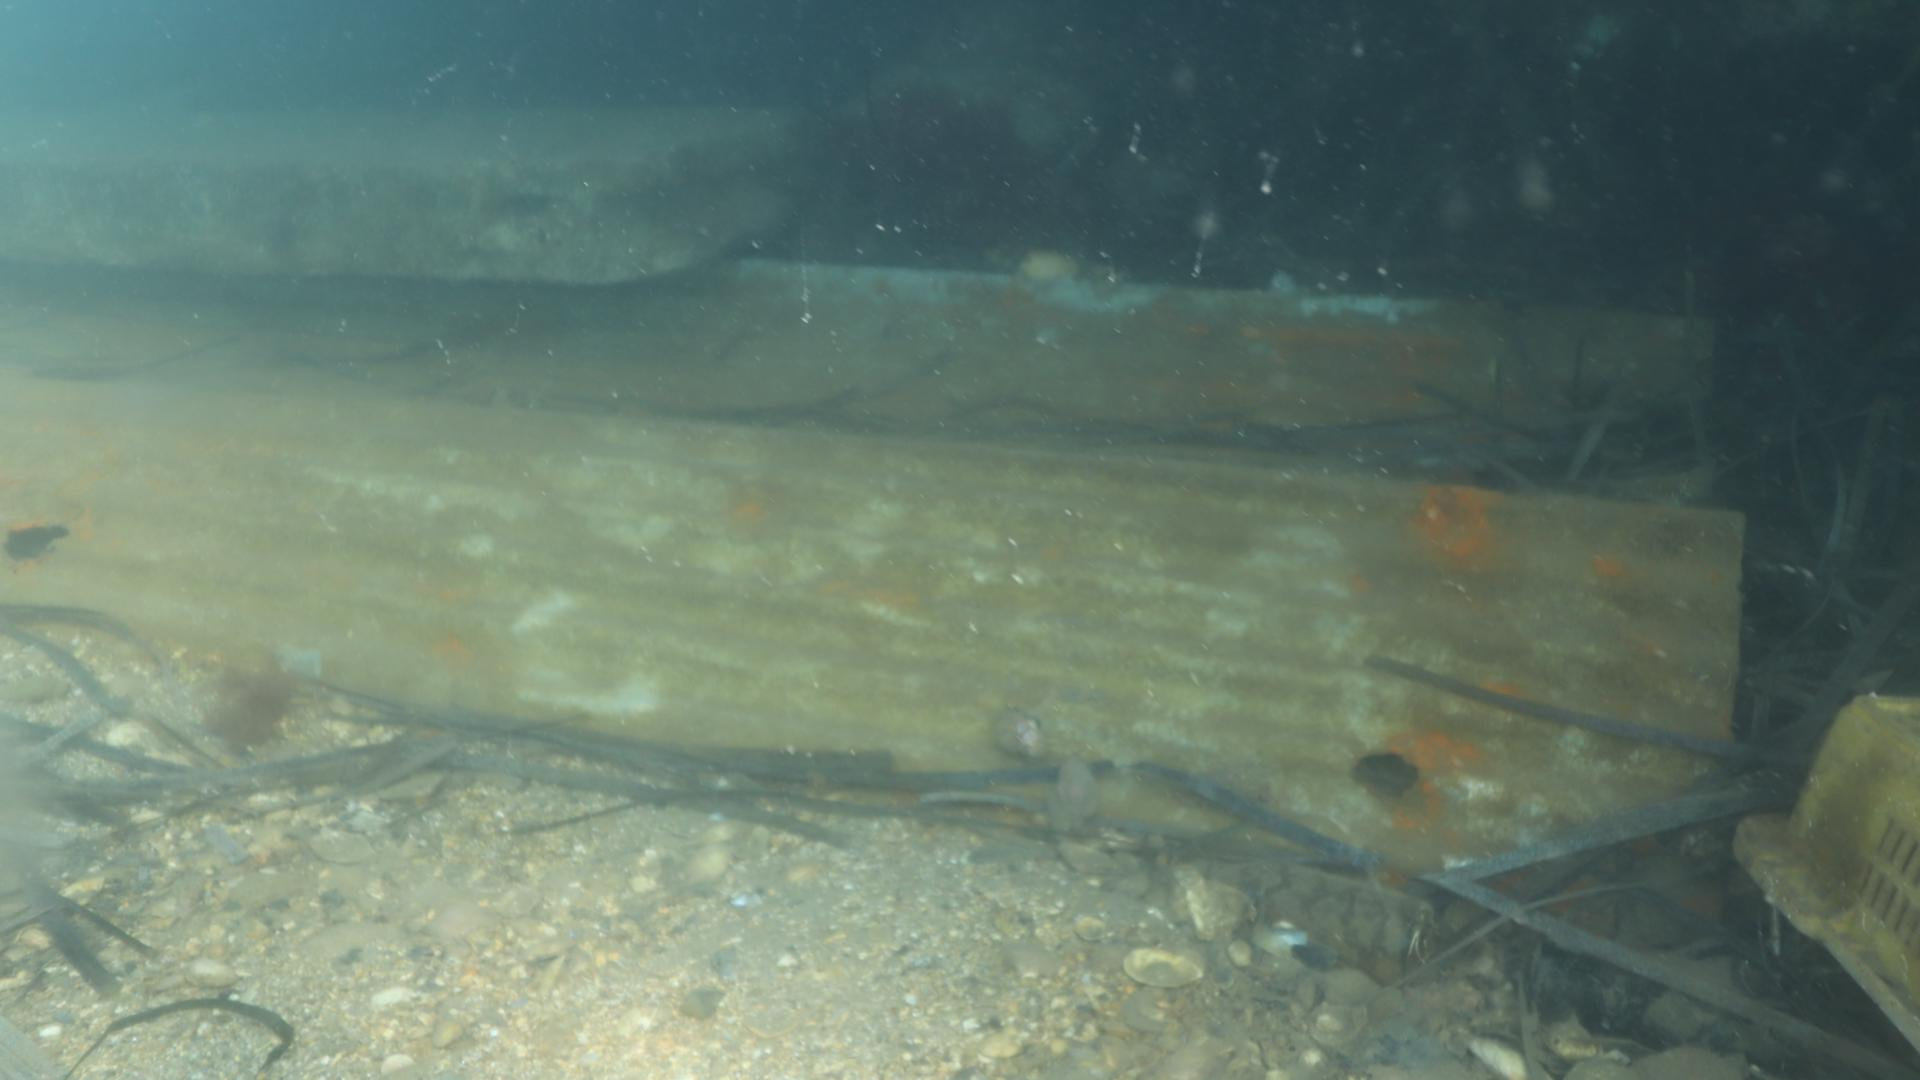wood: (0, 265, 1754, 907)
